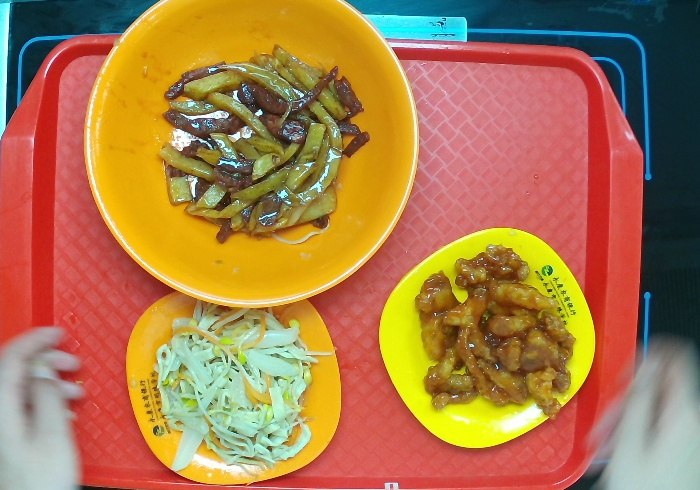YKMZ-Huang_Se_Fang_Die: (378, 226, 597, 449)
YKMZ-Ju_Se_Fang_Die: (124, 289, 343, 486)
YKMZ-Ju_Se_Tang_Wan: (82, 1, 421, 310)
